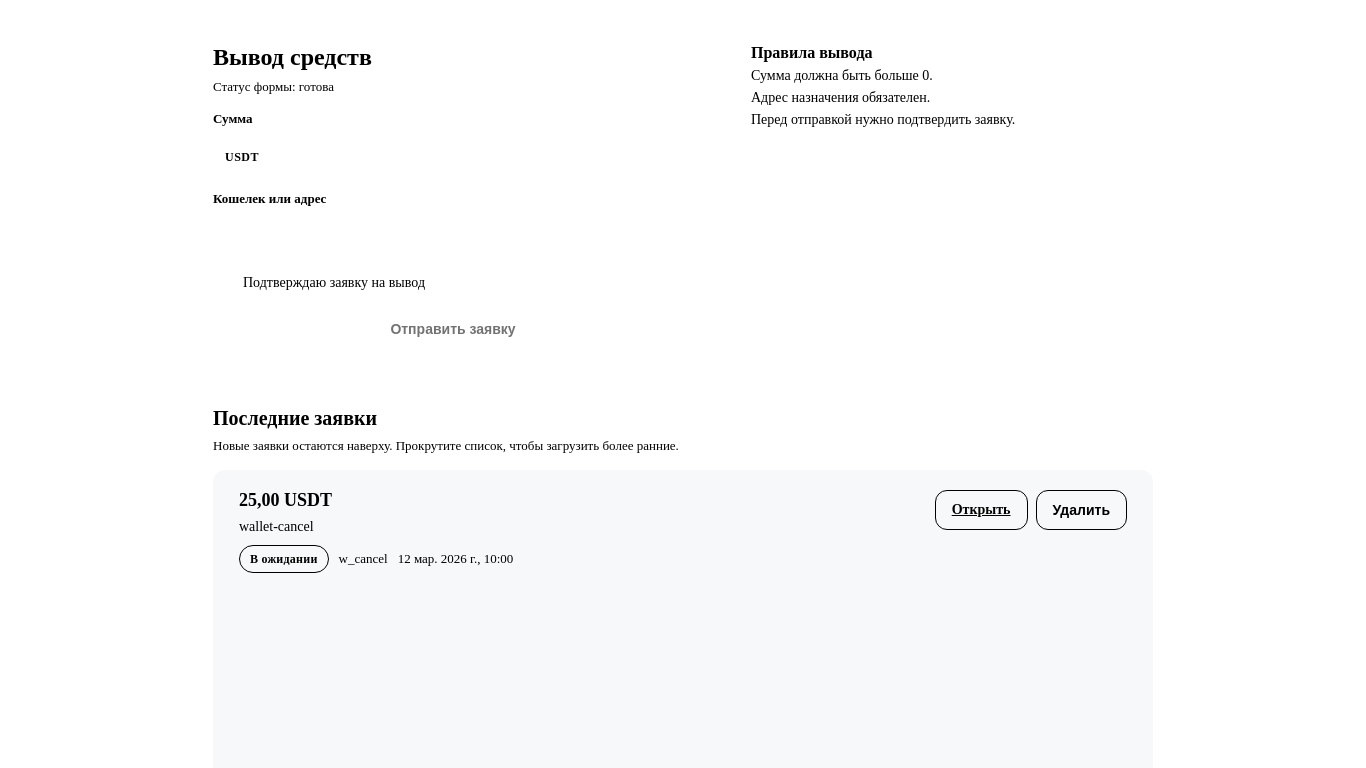
Test: страница вывода средств › закрывает модалку удаления без запроса если пользователь отменил действие
Click the button "Удалить".
click(1081, 510)  # box left=1036, top=490, right=1127, bottom=530
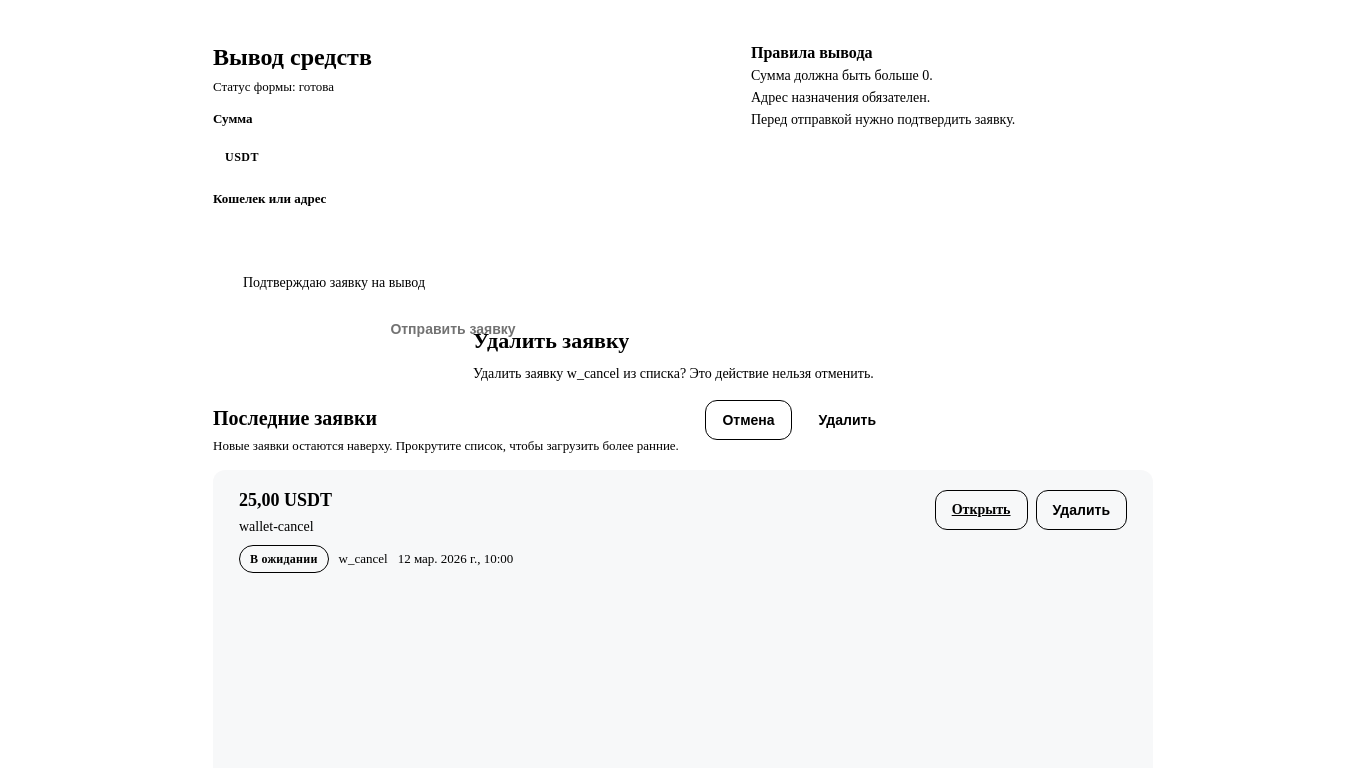
Now the dialog with test id "withdraw-feed-dialog" is shown, box left=453, top=308, right=913, bottom=460
Click the button with test id "withdraw-feed-dialog-cancel".
click(748, 420)  # box left=705, top=400, right=792, bottom=440
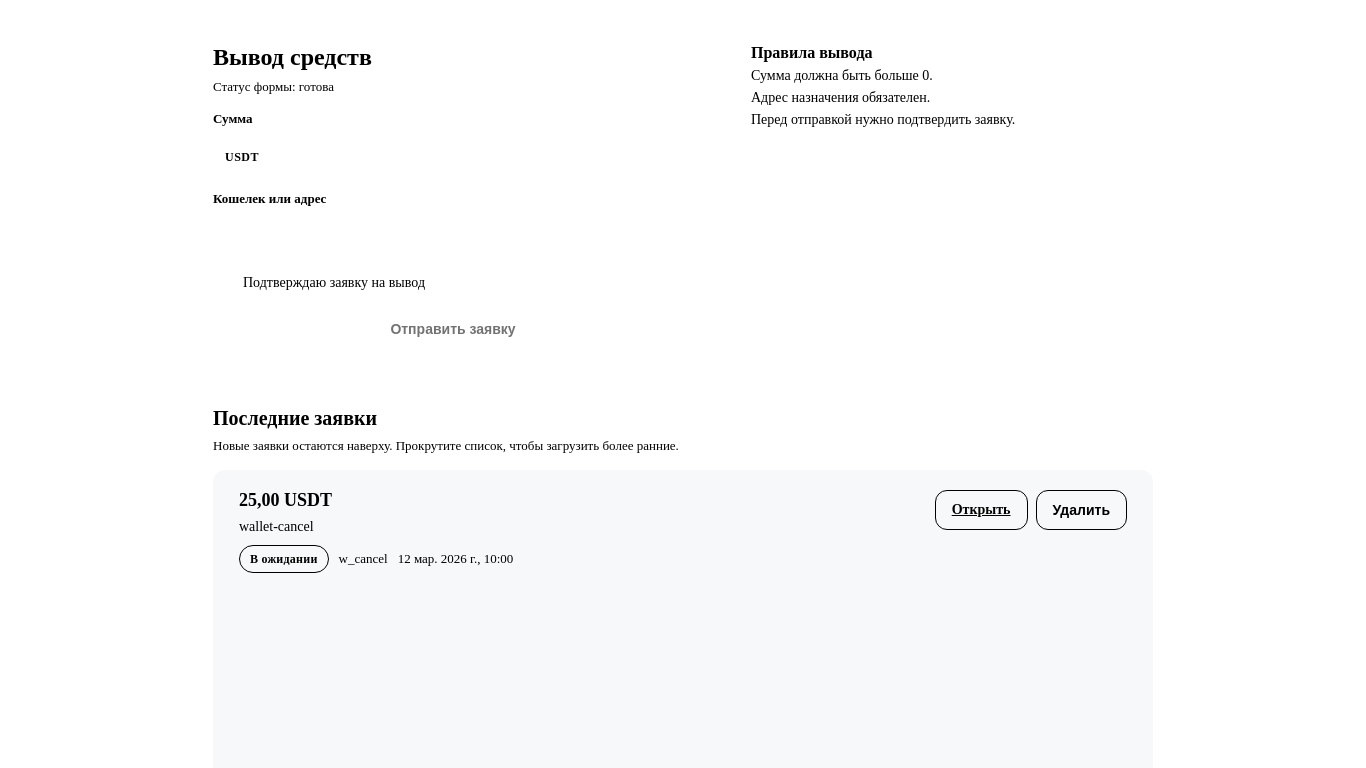
Now the dialog with test id "withdraw-feed-dialog" is gone
